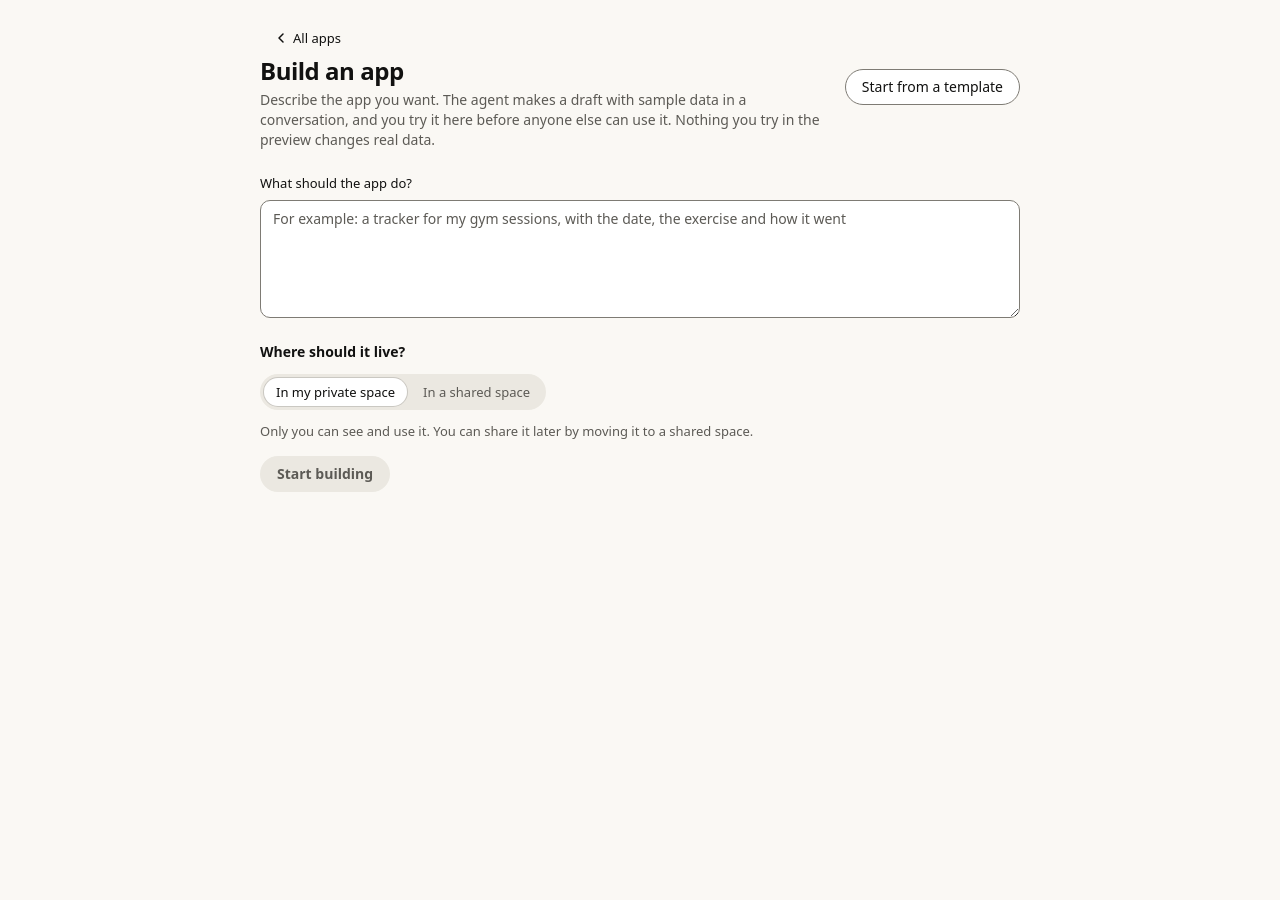
Test: starting a build keeps the place’s title: the start screen hands it to the session
Replace the text in the text box labelled "What should the app do?" with "An expense tracker": [640, 259] box [260,200,1020,318]
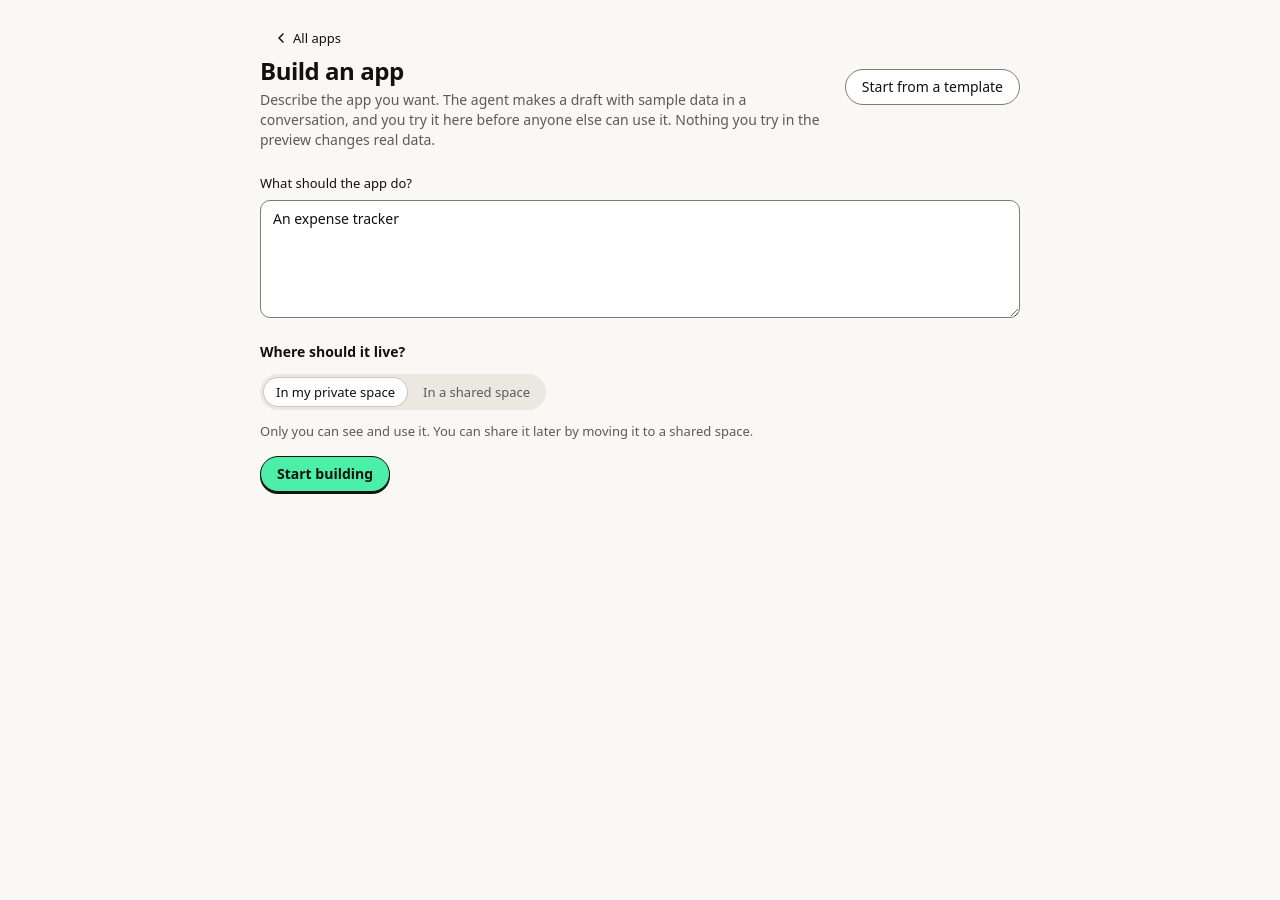
Expected: the heading "Build an app" is shown, [260,54,404,87]
Click the button "Start building": [325, 474] box [260,456,390,492]
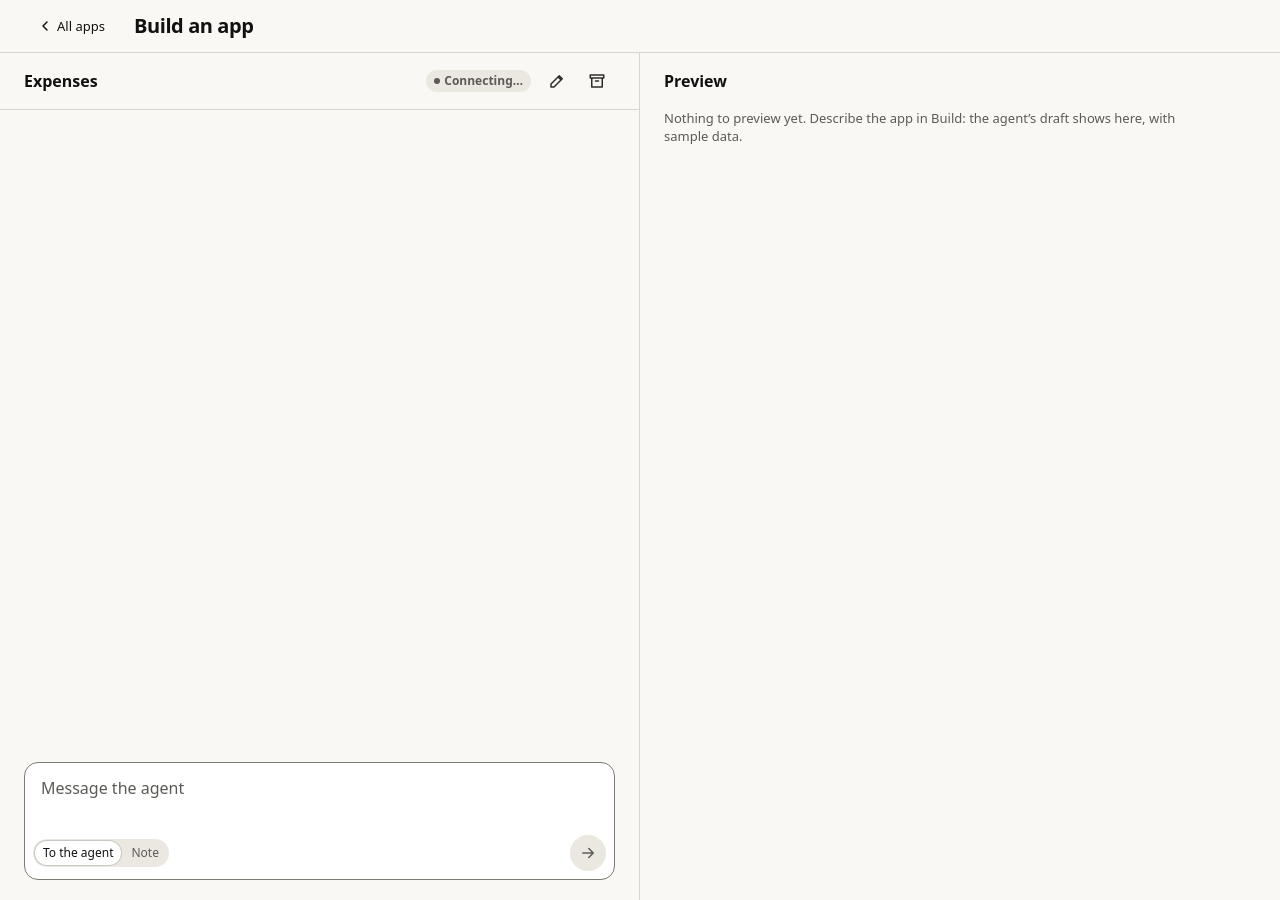
Expected: the heading "Build an app" is shown, [134,13,254,39]
Result: the element named "Build" is shown at [0,53,640,899]
